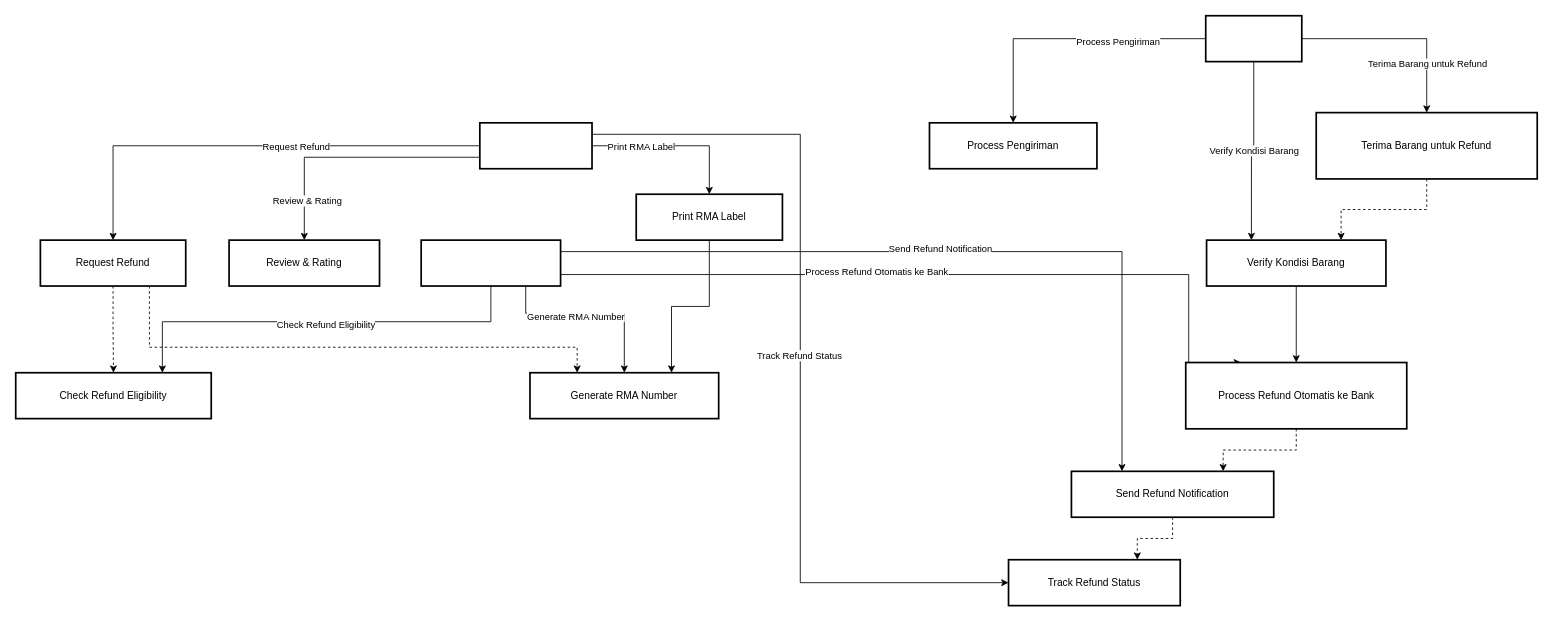
The diagram is 1552 pixels wide and 621 high, and some of its shapes have lost their labels. Here are the shapes that lost their labels. From the top down, the centre of each, then its label:
At [1253,38]: "Penjual".
At [535,145]: "Pelanggan".
At [490,262]: "Admin/System".
